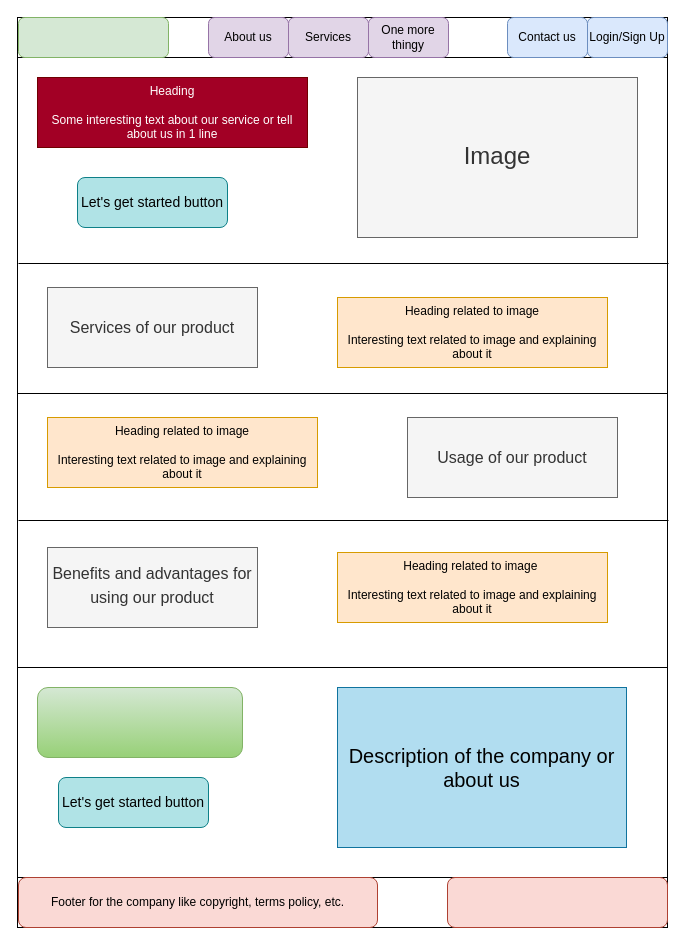
This 687x945 diagram has some shape labels left out. The centre of each missing label's shape, as x and y in pixels:
Company's Name: point 139,722
Company's name with logo: point 93,37
Logos of different sites where you connect with us or lookup at: point 557,902
